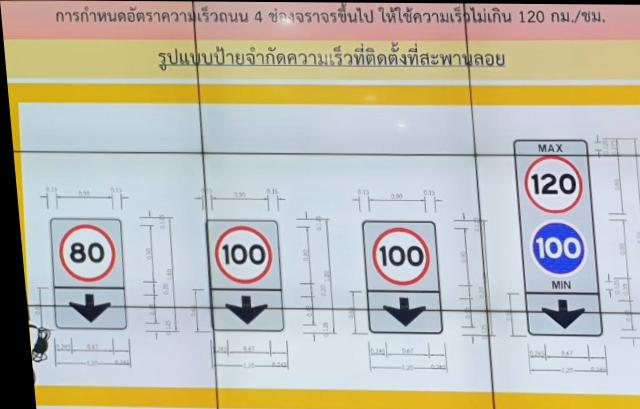limit100: (207, 220, 272, 284), (367, 225, 428, 288)
limit120: (520, 153, 582, 213)
limit80: (49, 222, 114, 283)
